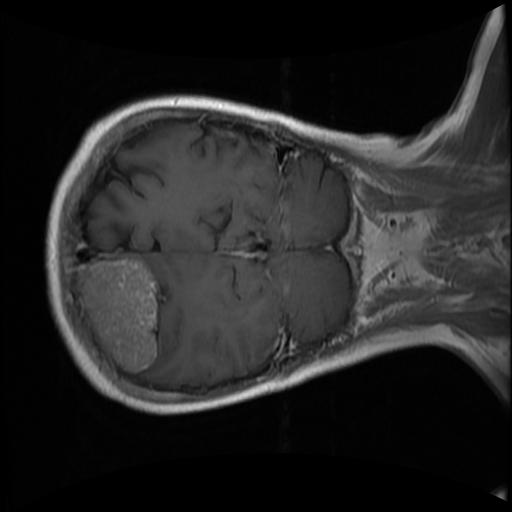meningioma: (81, 258, 160, 372)
